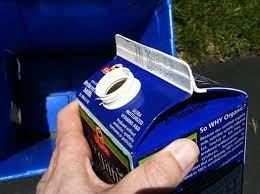cardboard: (80, 34, 247, 194)
